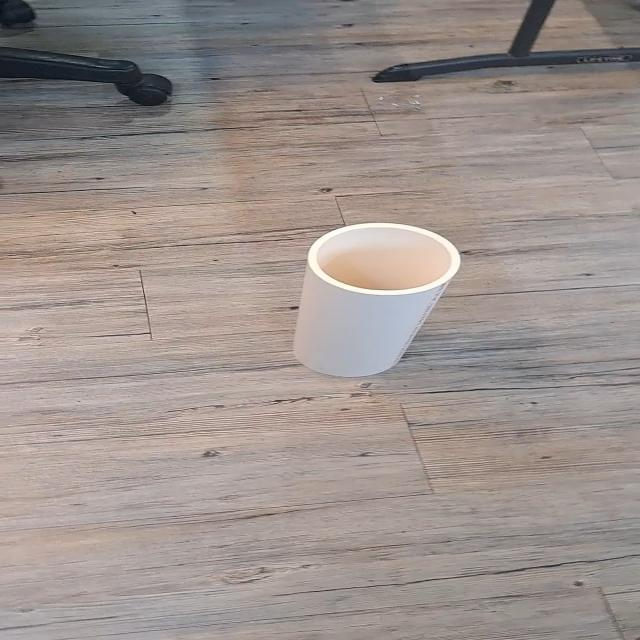CORAL: (267, 206, 483, 407)
